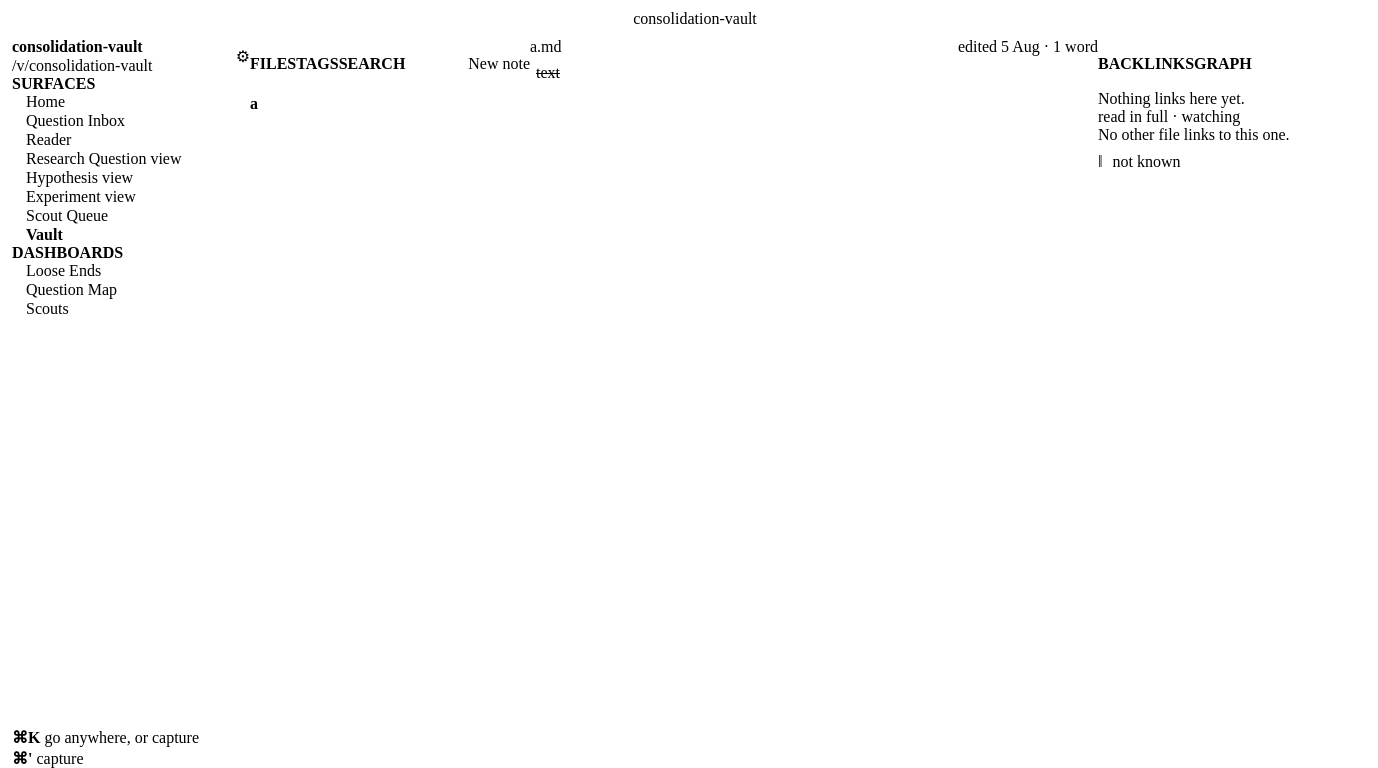
Scenario: a Markdown link in note text › draws obsidian://open?vault=x as not a link and says its scheme
The width and height of the screenshot is (1378, 768).
What coordinates should you click on to do the following:
click the field labelled "text"
I would click on:
 (548, 72)
Its box is [536,64,560,81].
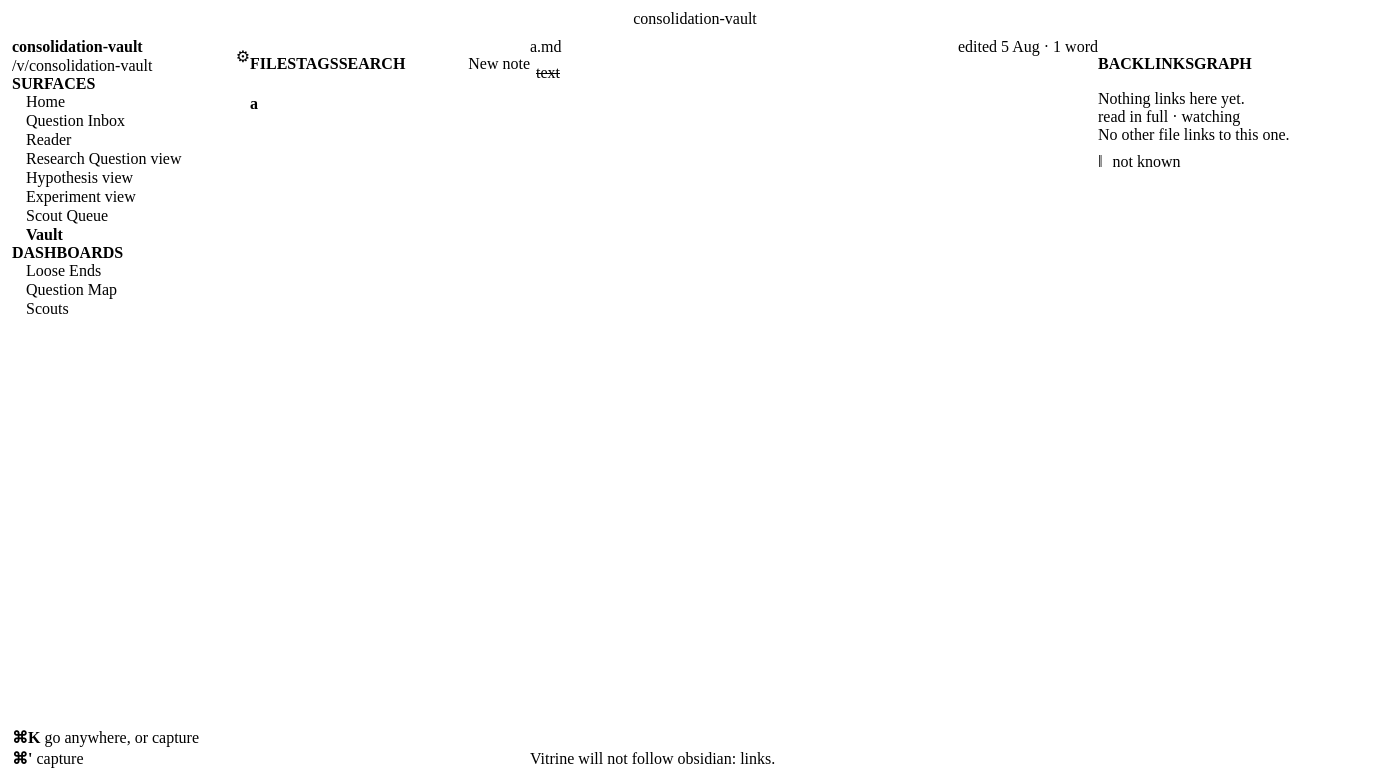
Check: the message shows "obsidian:", box [530,750,775,767]
